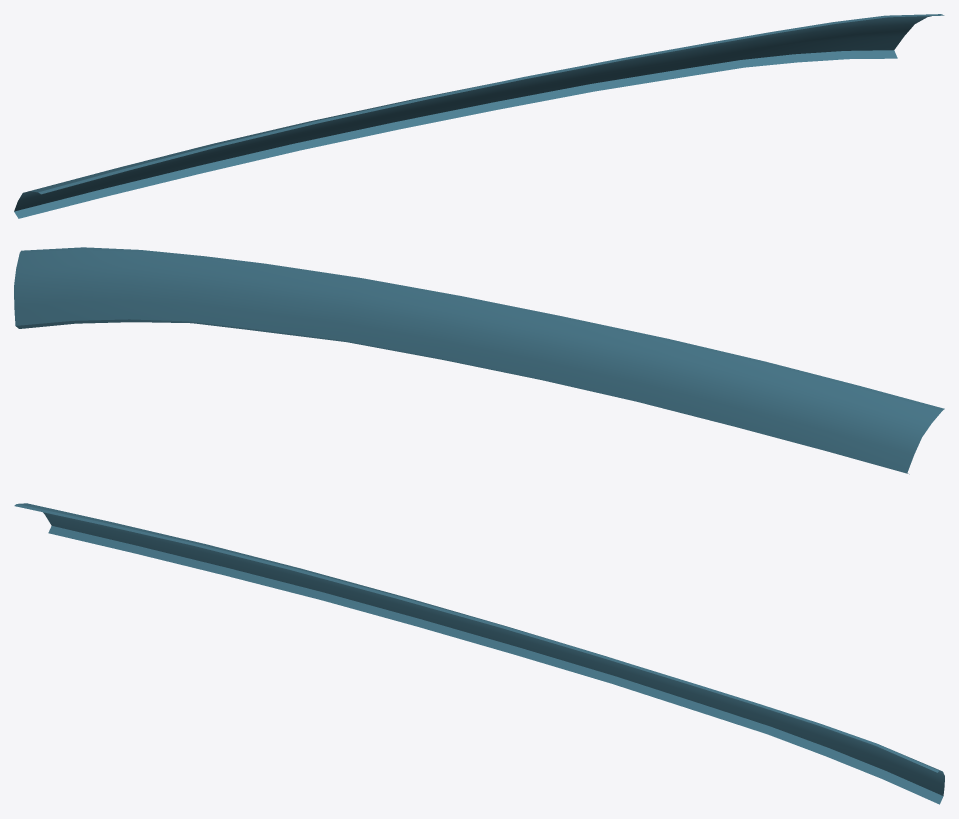
The picture shows the model from 3 angles, top to bottom: view 1: azimuth 30°, elevation 25°; view 2: azimuth 150°, elevation 25°; view 3: azimuth 330°, elevation 25°; orthographic projection.
Parts seen in each view (by area): view 1: Y175_18_18A5_L_1_DaS_Y175_18_18A5_L, Y175_18_18A5_L_1_DaS_Y175_18_18A5_L_E; view 2: Y175_18_18A5_L_1_DaS_Y175_18_18A5_L, Y175_18_18A5_L_1_DaS_Y175_18_18A5_L_E; view 3: Y175_18_18A5_L_1_DaS_Y175_18_18A5_L, Y175_18_18A5_L_1_DaS_Y175_18_18A5_L_E.
Boxes of the visible parts, <box> form: Y175_18_18A5_L_1_DaS_Y175_18_18A5_L: <box>14,16,931,211</box>; Y175_18_18A5_L_1_DaS_Y175_18_18A5_L_E: <box>14,14,944,218</box>; Y175_18_18A5_L_1_DaS_Y175_18_18A5_L: <box>14,249,941,472</box>; Y175_18_18A5_L_1_DaS_Y175_18_18A5_L_E: <box>16,247,944,474</box>; Y175_18_18A5_L_1_DaS_Y175_18_18A5_L: <box>18,503,944,795</box>; Y175_18_18A5_L_1_DaS_Y175_18_18A5_L_E: <box>14,504,943,804</box>.
Size of the model in its own units: 74.45 by 8.85 by 5.84.
